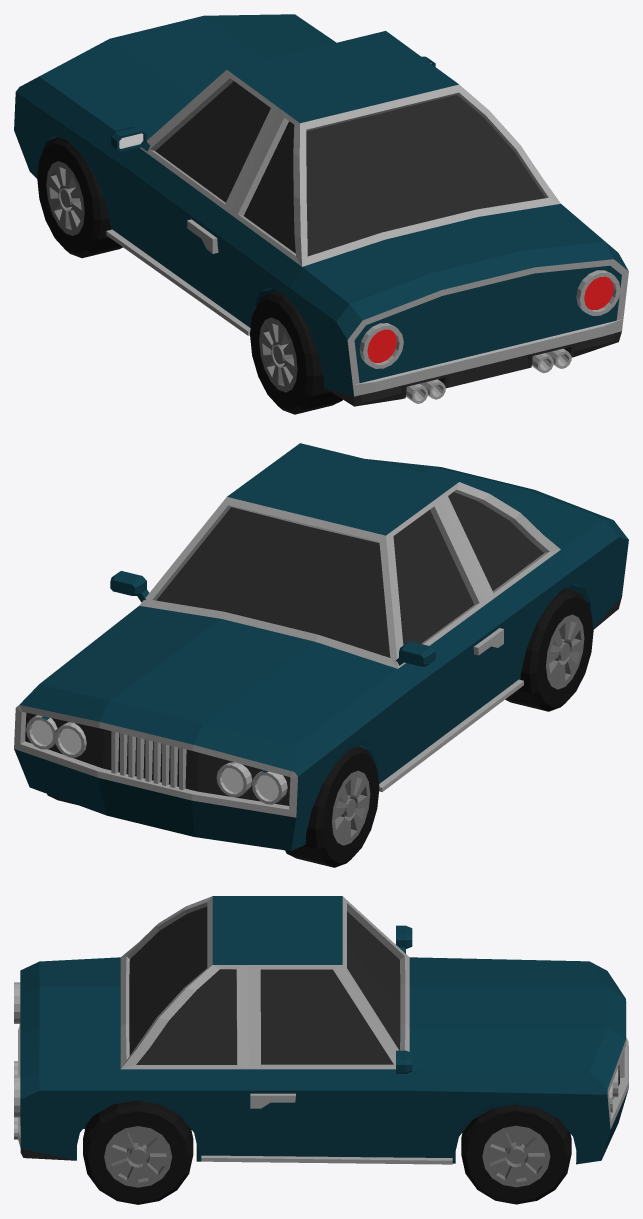
The model's file is cars.fbx.
3 renders of one model, top to bottom at view 1: azimuth 30°, elevation 25°; view 2: azimuth 150°, elevation 25°; view 3: azimuth 270°, elevation 25°, orthographic. The views are drawn at different scales.
Visible parts, largest first — view 1: Cube, Wheel2.002, Wheel2.003, Cylinder; view 2: Cube, Wheel2.002, Wheel2.003, Grill; view 3: Cube, Wheel2, Wheel2.001.
Boxes of the visible parts, x1,y1,x2,y2 form: Cube: (14,14,628,406); Wheel2.002: (250,291,342,414); Wheel2.003: (37,137,122,258); Cylinder: (406,348,571,403); Cube: (14,443,628,850); Wheel2.002: (505,588,593,711); Wheel2.003: (285,746,379,867); Grill: (111,731,186,790); Cube: (14,896,628,1164); Wheel2: (83,1100,193,1204); Wheel2.001: (461,1104,571,1204).
Bounding box in the file's own units: 189 × 137 × 357.
